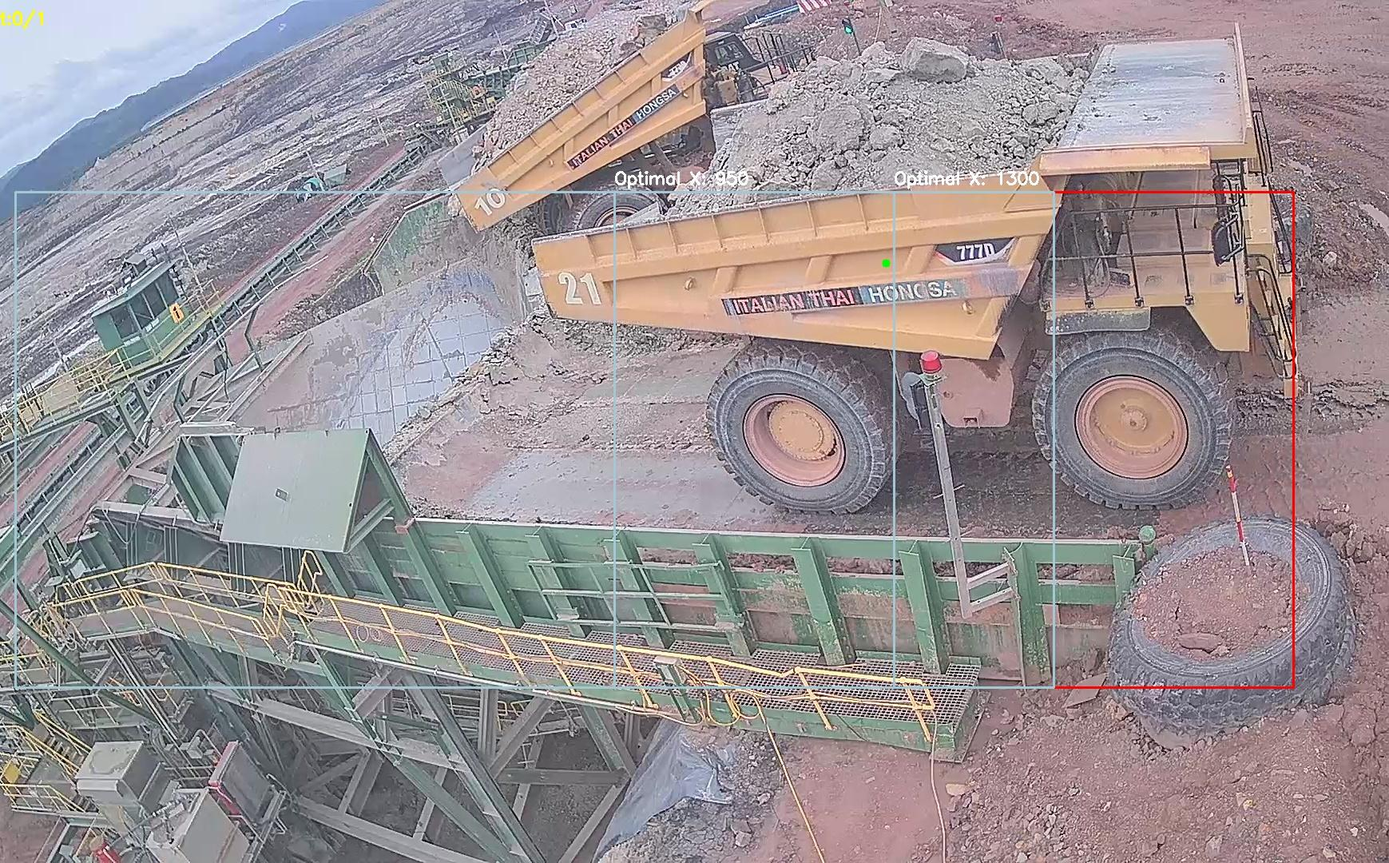company: (707, 269, 982, 326)
full_load: (771, 26, 1070, 196)
mining_truck: (521, 14, 1318, 526)
tail_number: (549, 263, 618, 318)
truck_size: (932, 233, 1019, 264)
